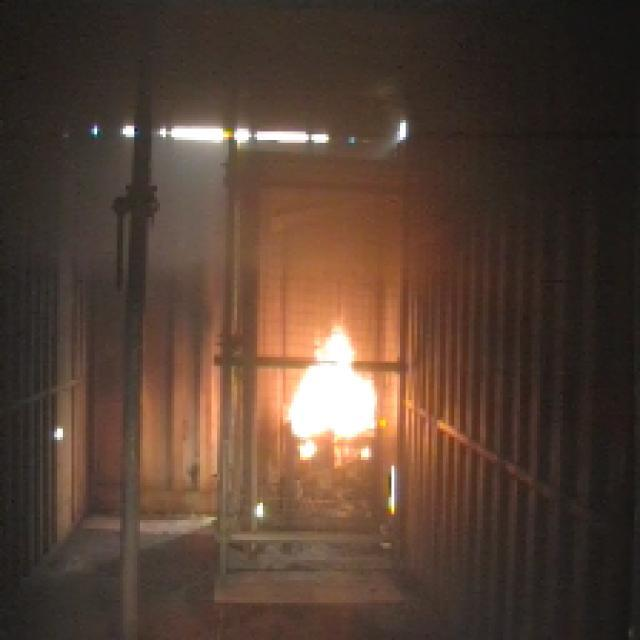Fire: (296, 308, 379, 461)
